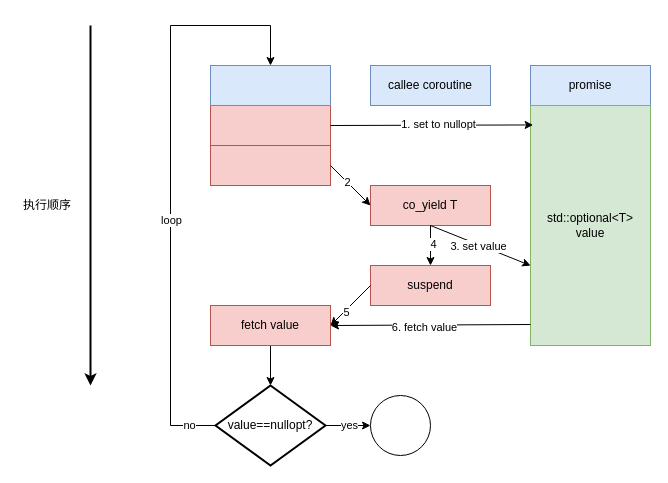
The diagram is 668 pixels wide and 483 high, and some of its shapes have lost their labels. Here are the shapes that lost their labels. From the top down, the centre of each, then its label:
point (270, 85): caller
point (270, 125): Task::next
point (270, 165): resume coroutine
point (400, 425): exit loop
